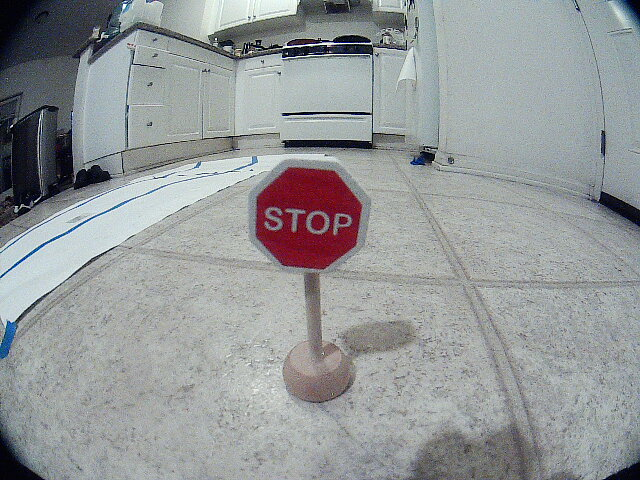Stop Sign: (242, 138, 390, 293)
